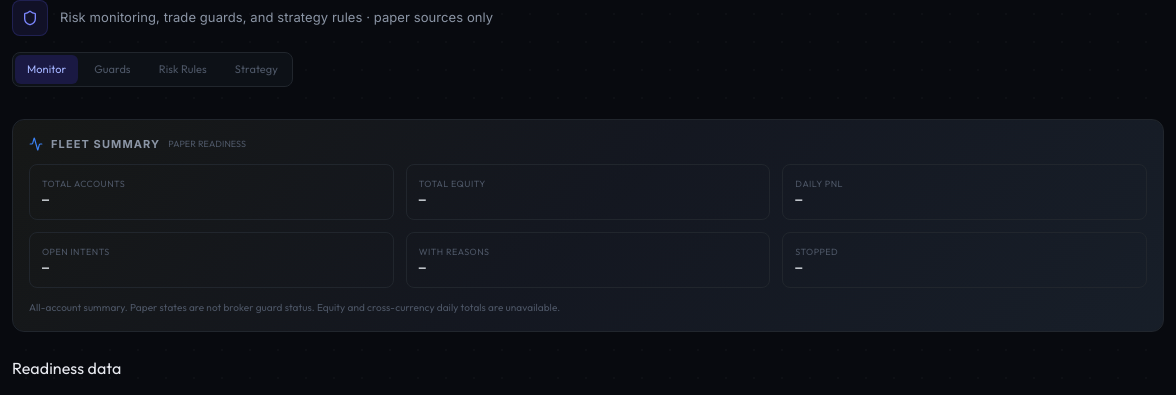
original data page layouts › retains Risk monitor and rules tabs with disabled unsupported controls
Click the tab "Risk Rules" at coordinates (183, 69), box [147,55,219,84]
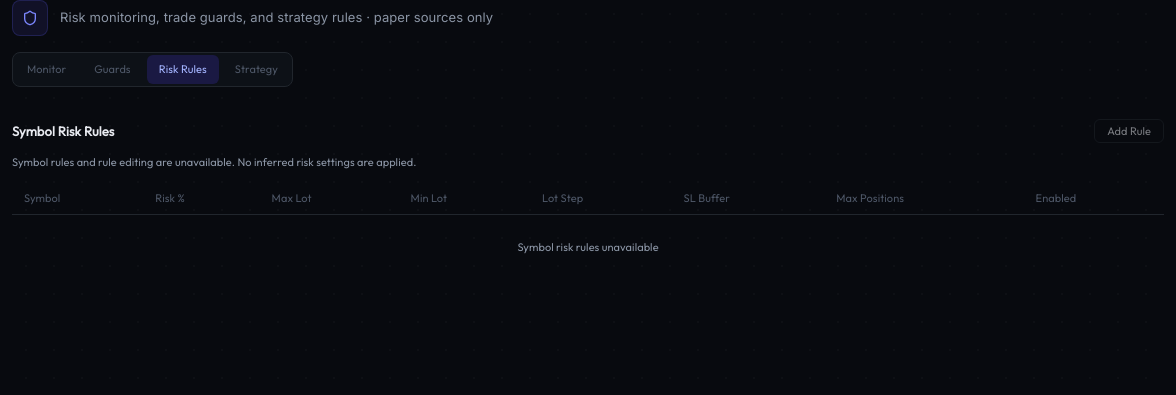
expect the column heading "Risk %" is shown: met, box [143,182,260,215]
expect the button "Add Rule" is disabled: met, box [1094,118,1164,143]
Click the tab "Monitor" at coordinates (47, 69), box [15,55,78,84]
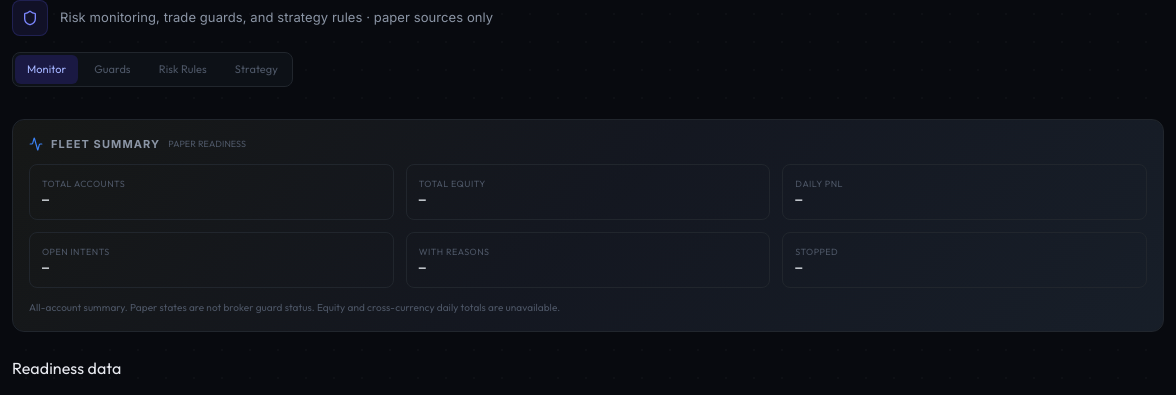
expect the text "Readiness data" is shown: met, box [12,358,121,378]
